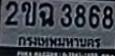2: (5, 0, 17, 24)
3: (60, 3, 71, 26)
6: (88, 4, 99, 28)
8: (74, 4, 85, 27), (102, 5, 112, 28)
A02: (21, 0, 36, 25)
A09: (38, 2, 54, 26)
BKK: (16, 32, 103, 49)
